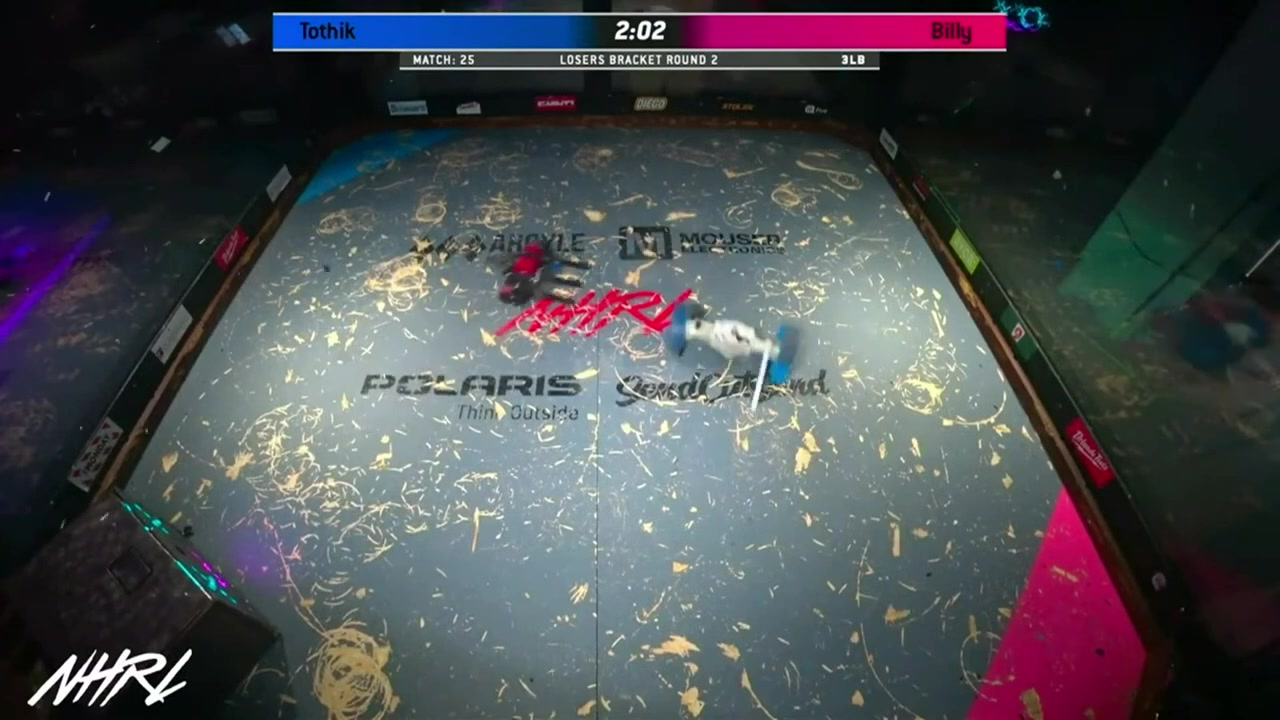combatbot: (673, 291, 799, 409), (498, 236, 552, 302)
housebot: (4, 493, 282, 715)
